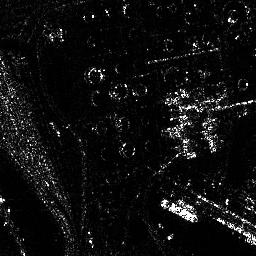ship: (161, 196, 198, 223)
